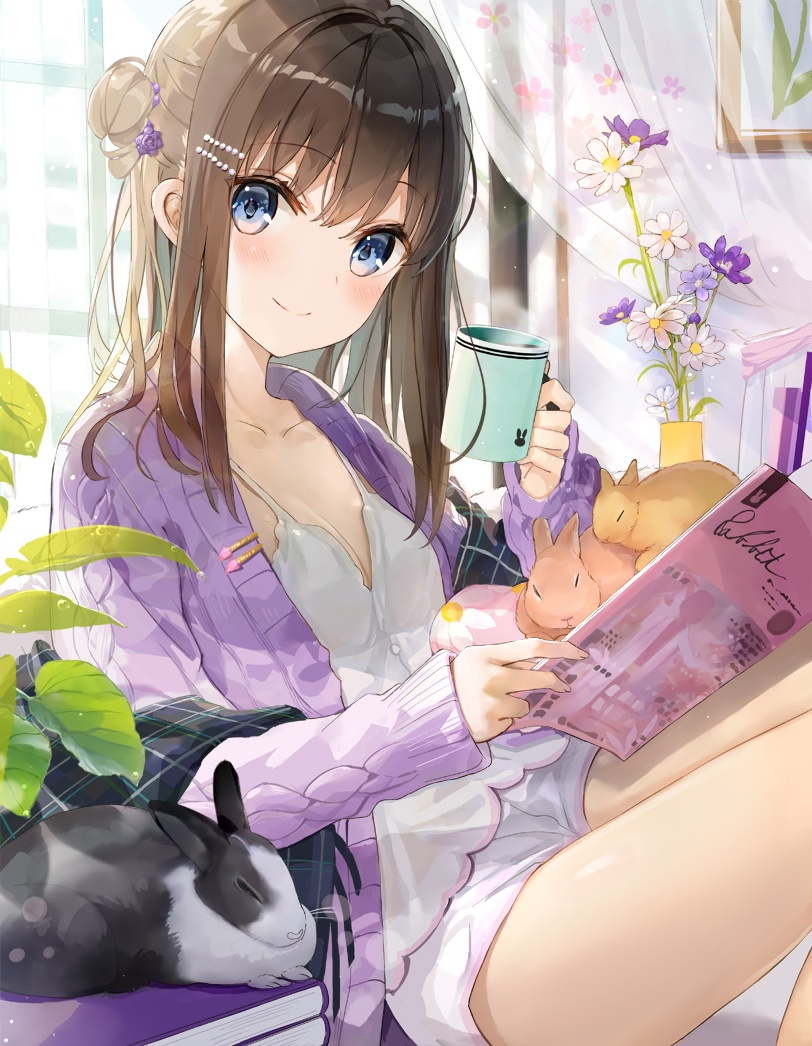纸片人正脸: (93, 4, 506, 365)
